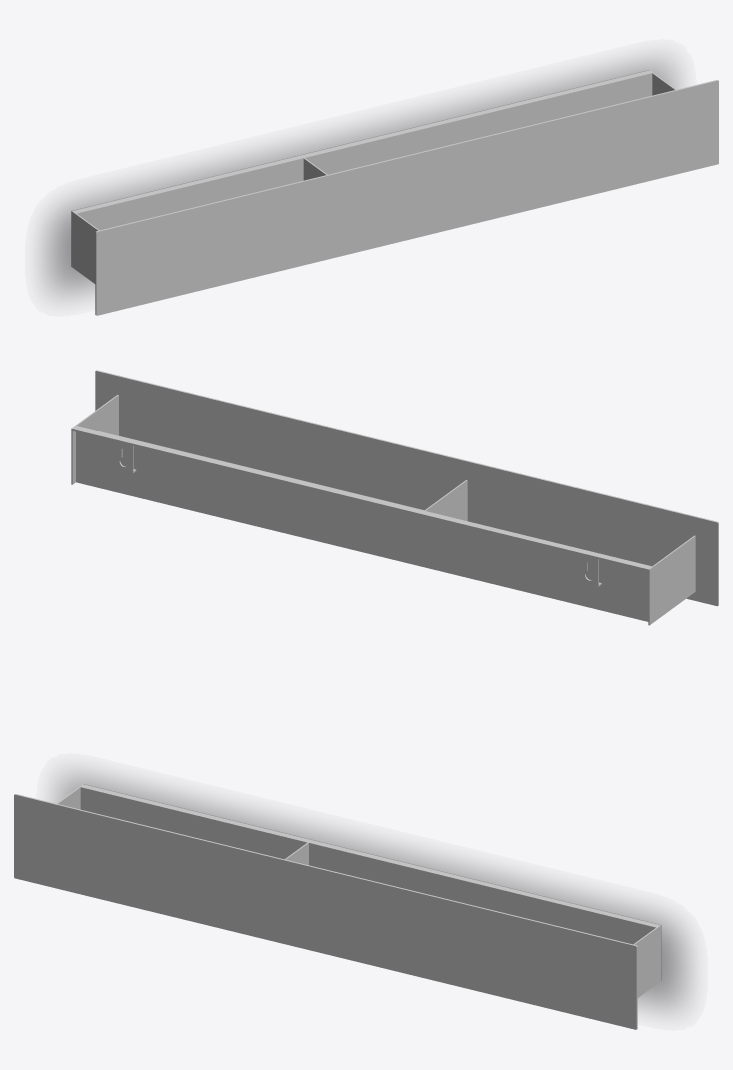
The model's file is skyline-double.394750680d.ar.glb.
3 renders of one model, top to bottom at view 1: azimuth 30°, elevation 25°; view 2: azimuth 150°, elevation 25°; view 3: azimuth 330°, elevation 25°, orthographic.
Visible parts, largest first — view 1: NAUO1, object 2; view 2: NAUO1; view 3: NAUO1, object 2.
Boxes of the visible parts, x1=… form: NAUO1: x1=71, y1=70, x2=718, y2=315; object 2: x1=42, y1=59, x2=678, y2=296; NAUO1: x1=71, y1=370, x2=718, y2=625; NAUO1: x1=14, y1=784, x2=661, y2=1029; object 2: x1=54, y1=773, x2=690, y2=1010.
Size of the model in its own units: 0.78 by 0.17 by 0.092.
Materials: 2 (1 with a texture image).
